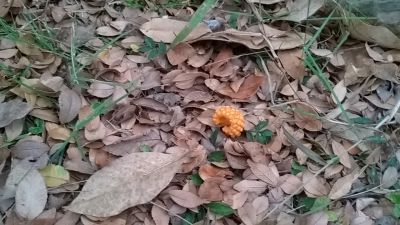eggs: (212, 105, 246, 138)
